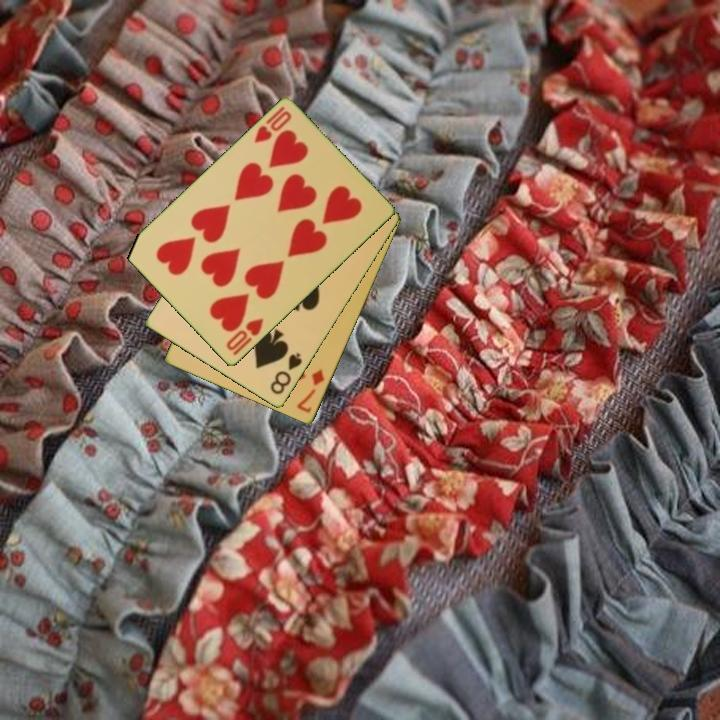10h: (251, 103, 294, 147), (222, 315, 267, 354)
7d: (294, 366, 328, 416)
8s: (267, 349, 305, 398)
